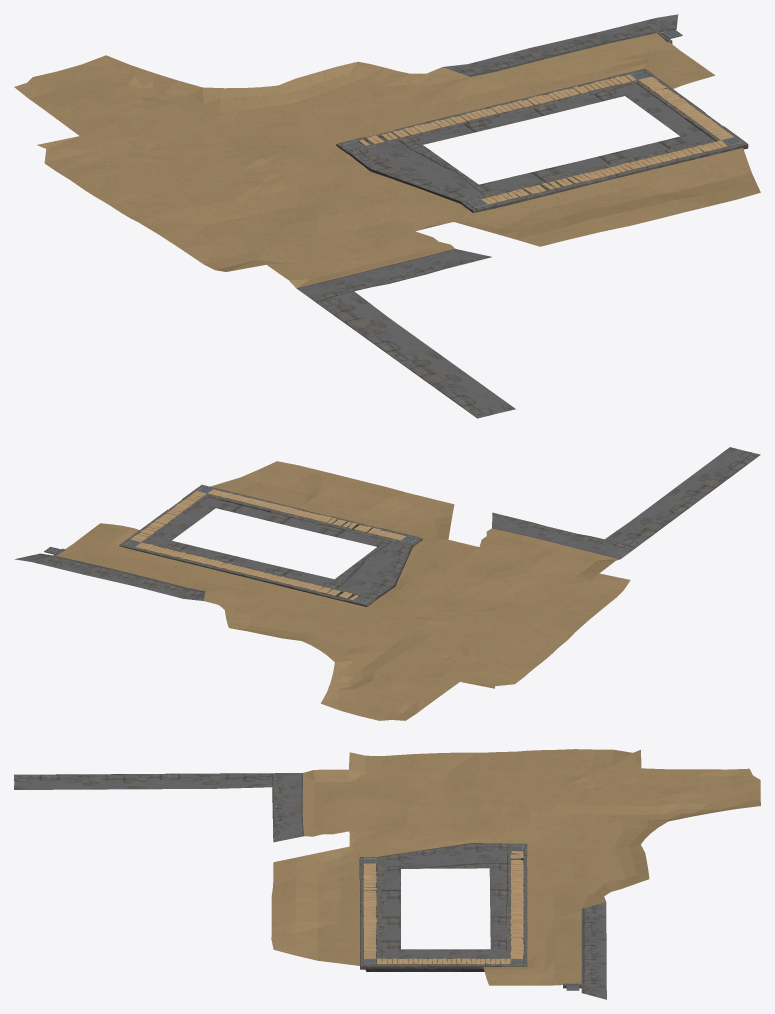
The model's file is SM_ENV_KNVLLG_ground_11.fbx.
3 views of the same model, one above another, from view 1: azimuth 30°, elevation 25°; view 2: azimuth 150°, elevation 25°; view 3: azimuth 270°, elevation 25° (orthographic). The views are drawn at different scales.
Parts seen in each view (by area): view 1: SM_ENV_KNVLLG_ground_11.mo; view 2: SM_ENV_KNVLLG_ground_11.mo; view 3: SM_ENV_KNVLLG_ground_11.mo.
Boxes of the visible parts, left/top/right/bottom form: SM_ENV_KNVLLG_ground_11.mo: left=14, top=14, right=760, bottom=418; SM_ENV_KNVLLG_ground_11.mo: left=15, top=447, right=760, bottom=720; SM_ENV_KNVLLG_ground_11.mo: left=14, top=749, right=760, bottom=999.
Bounding box in the file's own units: 9486 × 229 × 12019.
